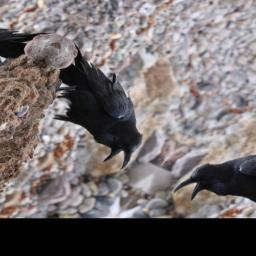Crow: (7, 43, 190, 171)
